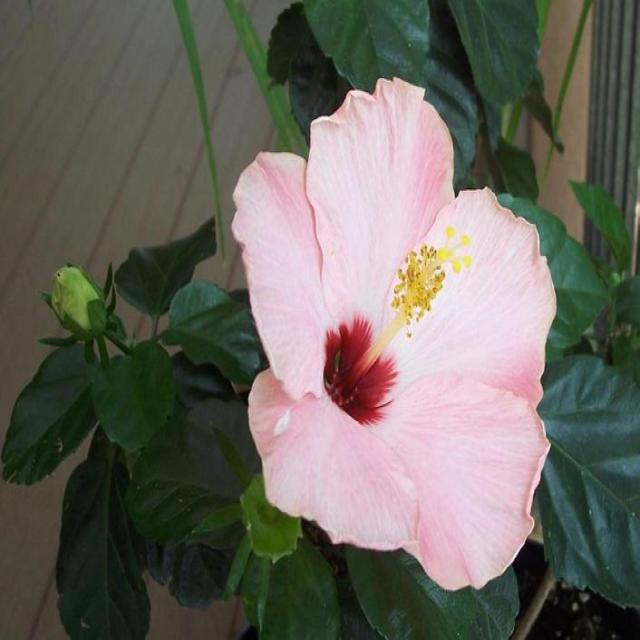hibiscus: (210, 39, 566, 620), (24, 184, 152, 403)
